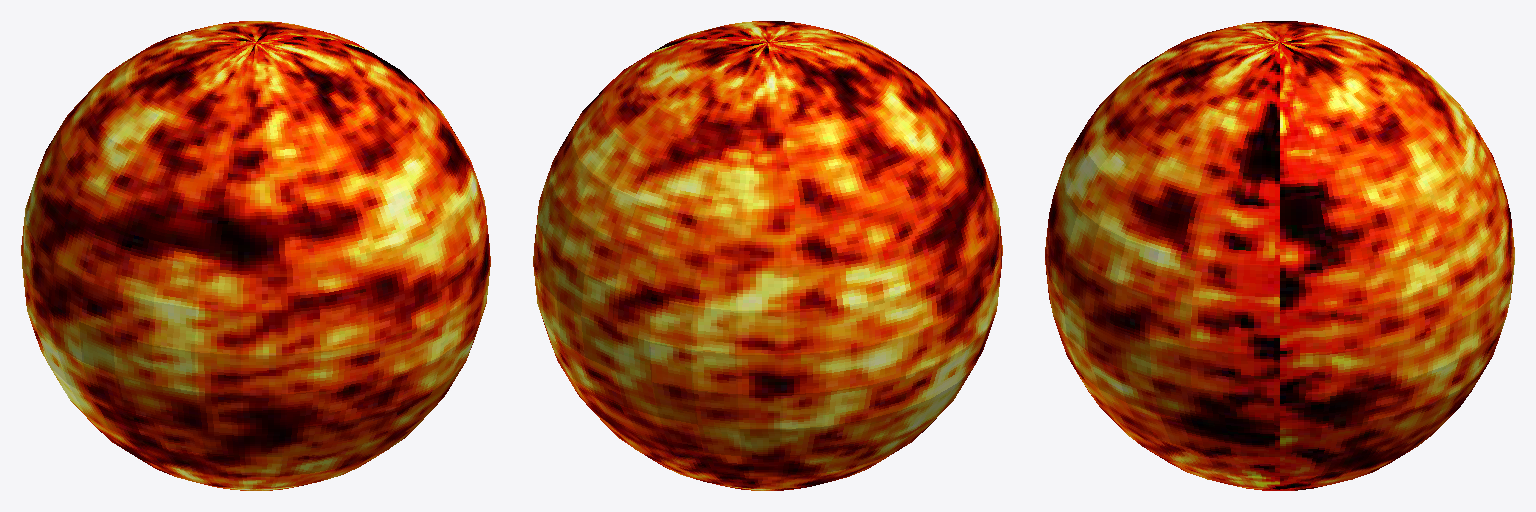
The picture shows the model from 3 angles: view 1: azimuth 30°, elevation 25°; view 2: azimuth 150°, elevation 25°; view 3: azimuth 270°, elevation 25°; orthographic projection.
Visible parts, largest first — view 1: 球; view 2: 球; view 3: 球.
Boxes of the visible parts, x1,y1,x2,y2 form: 球: [21, 21, 490, 490]; 球: [533, 21, 1002, 490]; 球: [1045, 21, 1514, 490].
Size of the model in its own units: 2 by 2 by 2.
1 materials, 1 textured.